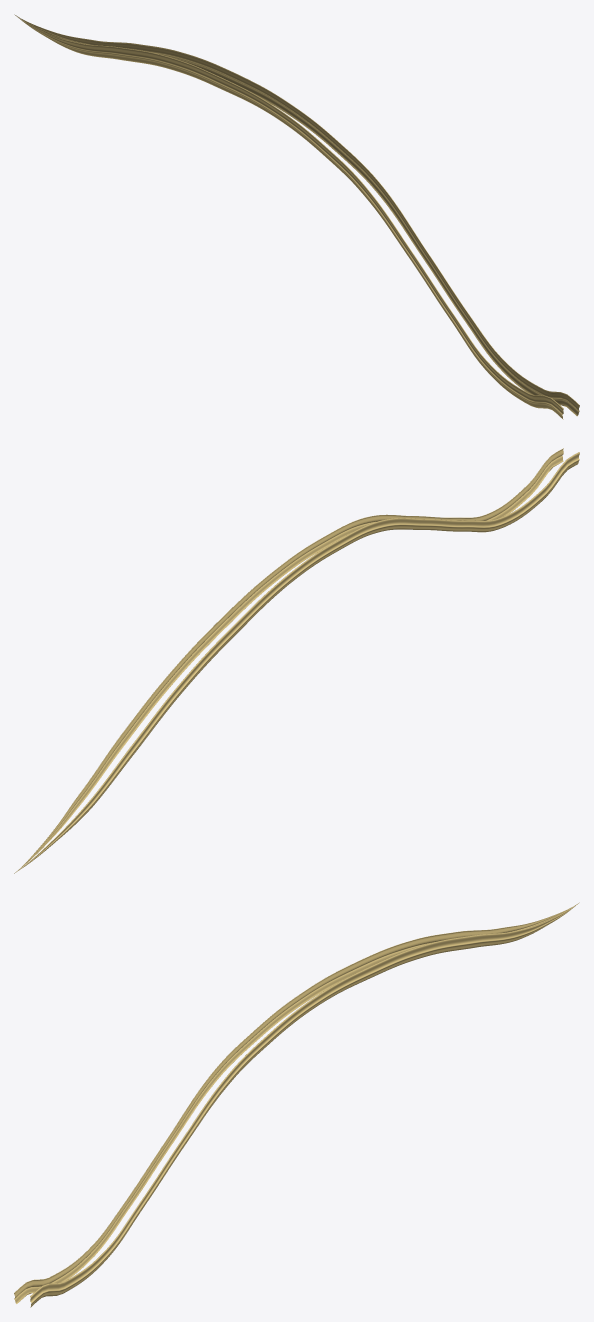
The picture shows the model from 3 angles, top to bottom: view 1: azimuth 30°, elevation 25°; view 2: azimuth 150°, elevation 25°; view 3: azimuth 330°, elevation 25°; orthographic projection.
Visible parts, largest first — view 1: 外侧固有束; view 2: 外侧固有束; view 3: 外侧固有束.
Boxes of the visible parts, x1,y1,x2,y2 form: 外侧固有束: [14, 14, 579, 419]; 外侧固有束: [14, 448, 579, 873]; 外侧固有束: [14, 902, 579, 1307].
Size of the model in its own units: 0.0133 by 0.0823 by 0.7222.
